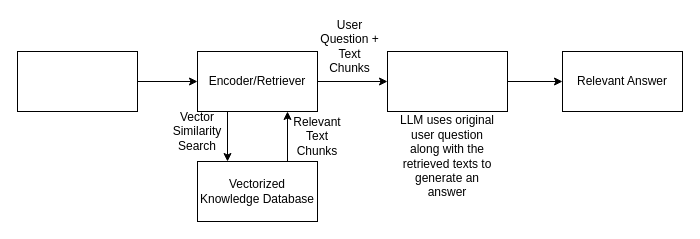
Image size: 700x239. Some labels were removed from this diagram. Here are the shapes that lost their labels. From the top down, the box of each, then its label:
(16, 50, 138, 112): User Question
(386, 50, 508, 112): Google Gemini 1.5 LLM
